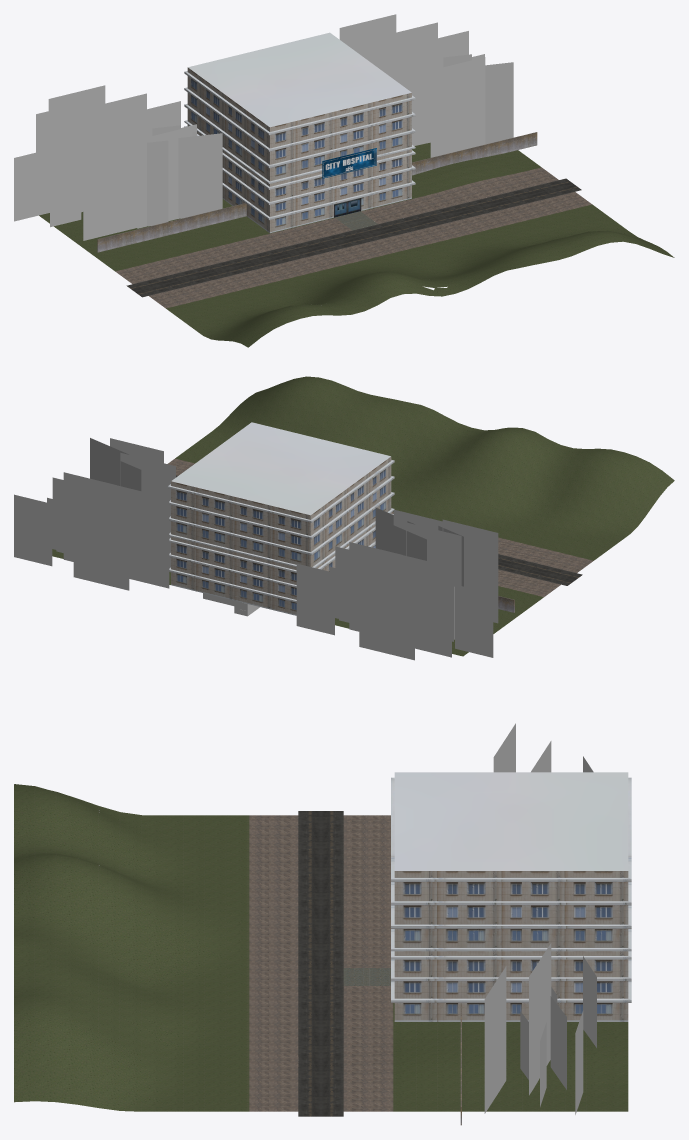
The model's file is hospital.fbx.
The picture shows the model from 3 angles, top to bottom: view 1: azimuth 30°, elevation 25°; view 2: azimuth 150°, elevation 25°; view 3: azimuth 270°, elevation 25°; orthographic projection. The views are drawn at different scales.
Visible parts, largest first — view 1: Plane.001, Plane.014, Plane.033, Plane.012, Plane.053, Plane.011, Plane.048, Plane.020, Plane.024, Plane; view 2: Plane.014, Plane.001, Plane.033, Plane.048, Plane.053, Plane.012, Plane.011, Plane.016; view 3: Plane.014, Plane.001, Plane.012, Plane.011, Plane.053, Plane.048, Plane.033, Plane.010.
Part boxes in pixels (bbox=[...]): Plane.001: bbox=[184, 32, 415, 233]; Plane.014: bbox=[148, 192, 674, 347]; Plane.033: bbox=[14, 85, 222, 240]; Plane.012: bbox=[39, 142, 558, 284]; Plane.053: bbox=[383, 22, 513, 157]; Plane.011: bbox=[126, 178, 581, 297]; Plane.048: bbox=[339, 14, 471, 145]; Plane.020: bbox=[97, 203, 246, 252]; Plane.024: bbox=[412, 132, 537, 175]; Plane: bbox=[322, 148, 376, 178]; Plane.014: bbox=[167, 376, 674, 572]; Plane.001: bbox=[167, 422, 394, 615]; Plane.033: bbox=[296, 507, 498, 660]; Plane.048: bbox=[73, 452, 175, 590]; Plane.053: bbox=[14, 438, 163, 566]; Plane.012: bbox=[52, 549, 560, 656]; Plane.011: bbox=[176, 475, 582, 585]; Plane.016: bbox=[203, 593, 259, 616]; Plane.014: bbox=[14, 784, 298, 1111]; Plane.001: bbox=[391, 772, 631, 1021]; Plane.012: bbox=[343, 815, 628, 1111]; Plane.011: bbox=[298, 811, 343, 1116]; Plane.053: bbox=[484, 966, 583, 1114]; Plane.048: bbox=[529, 943, 596, 1095]; Plane.033: bbox=[493, 723, 593, 772]; Plane.010: bbox=[343, 968, 390, 985].
Bounding box in the file's own units: 33153 × 7970 × 28263.
